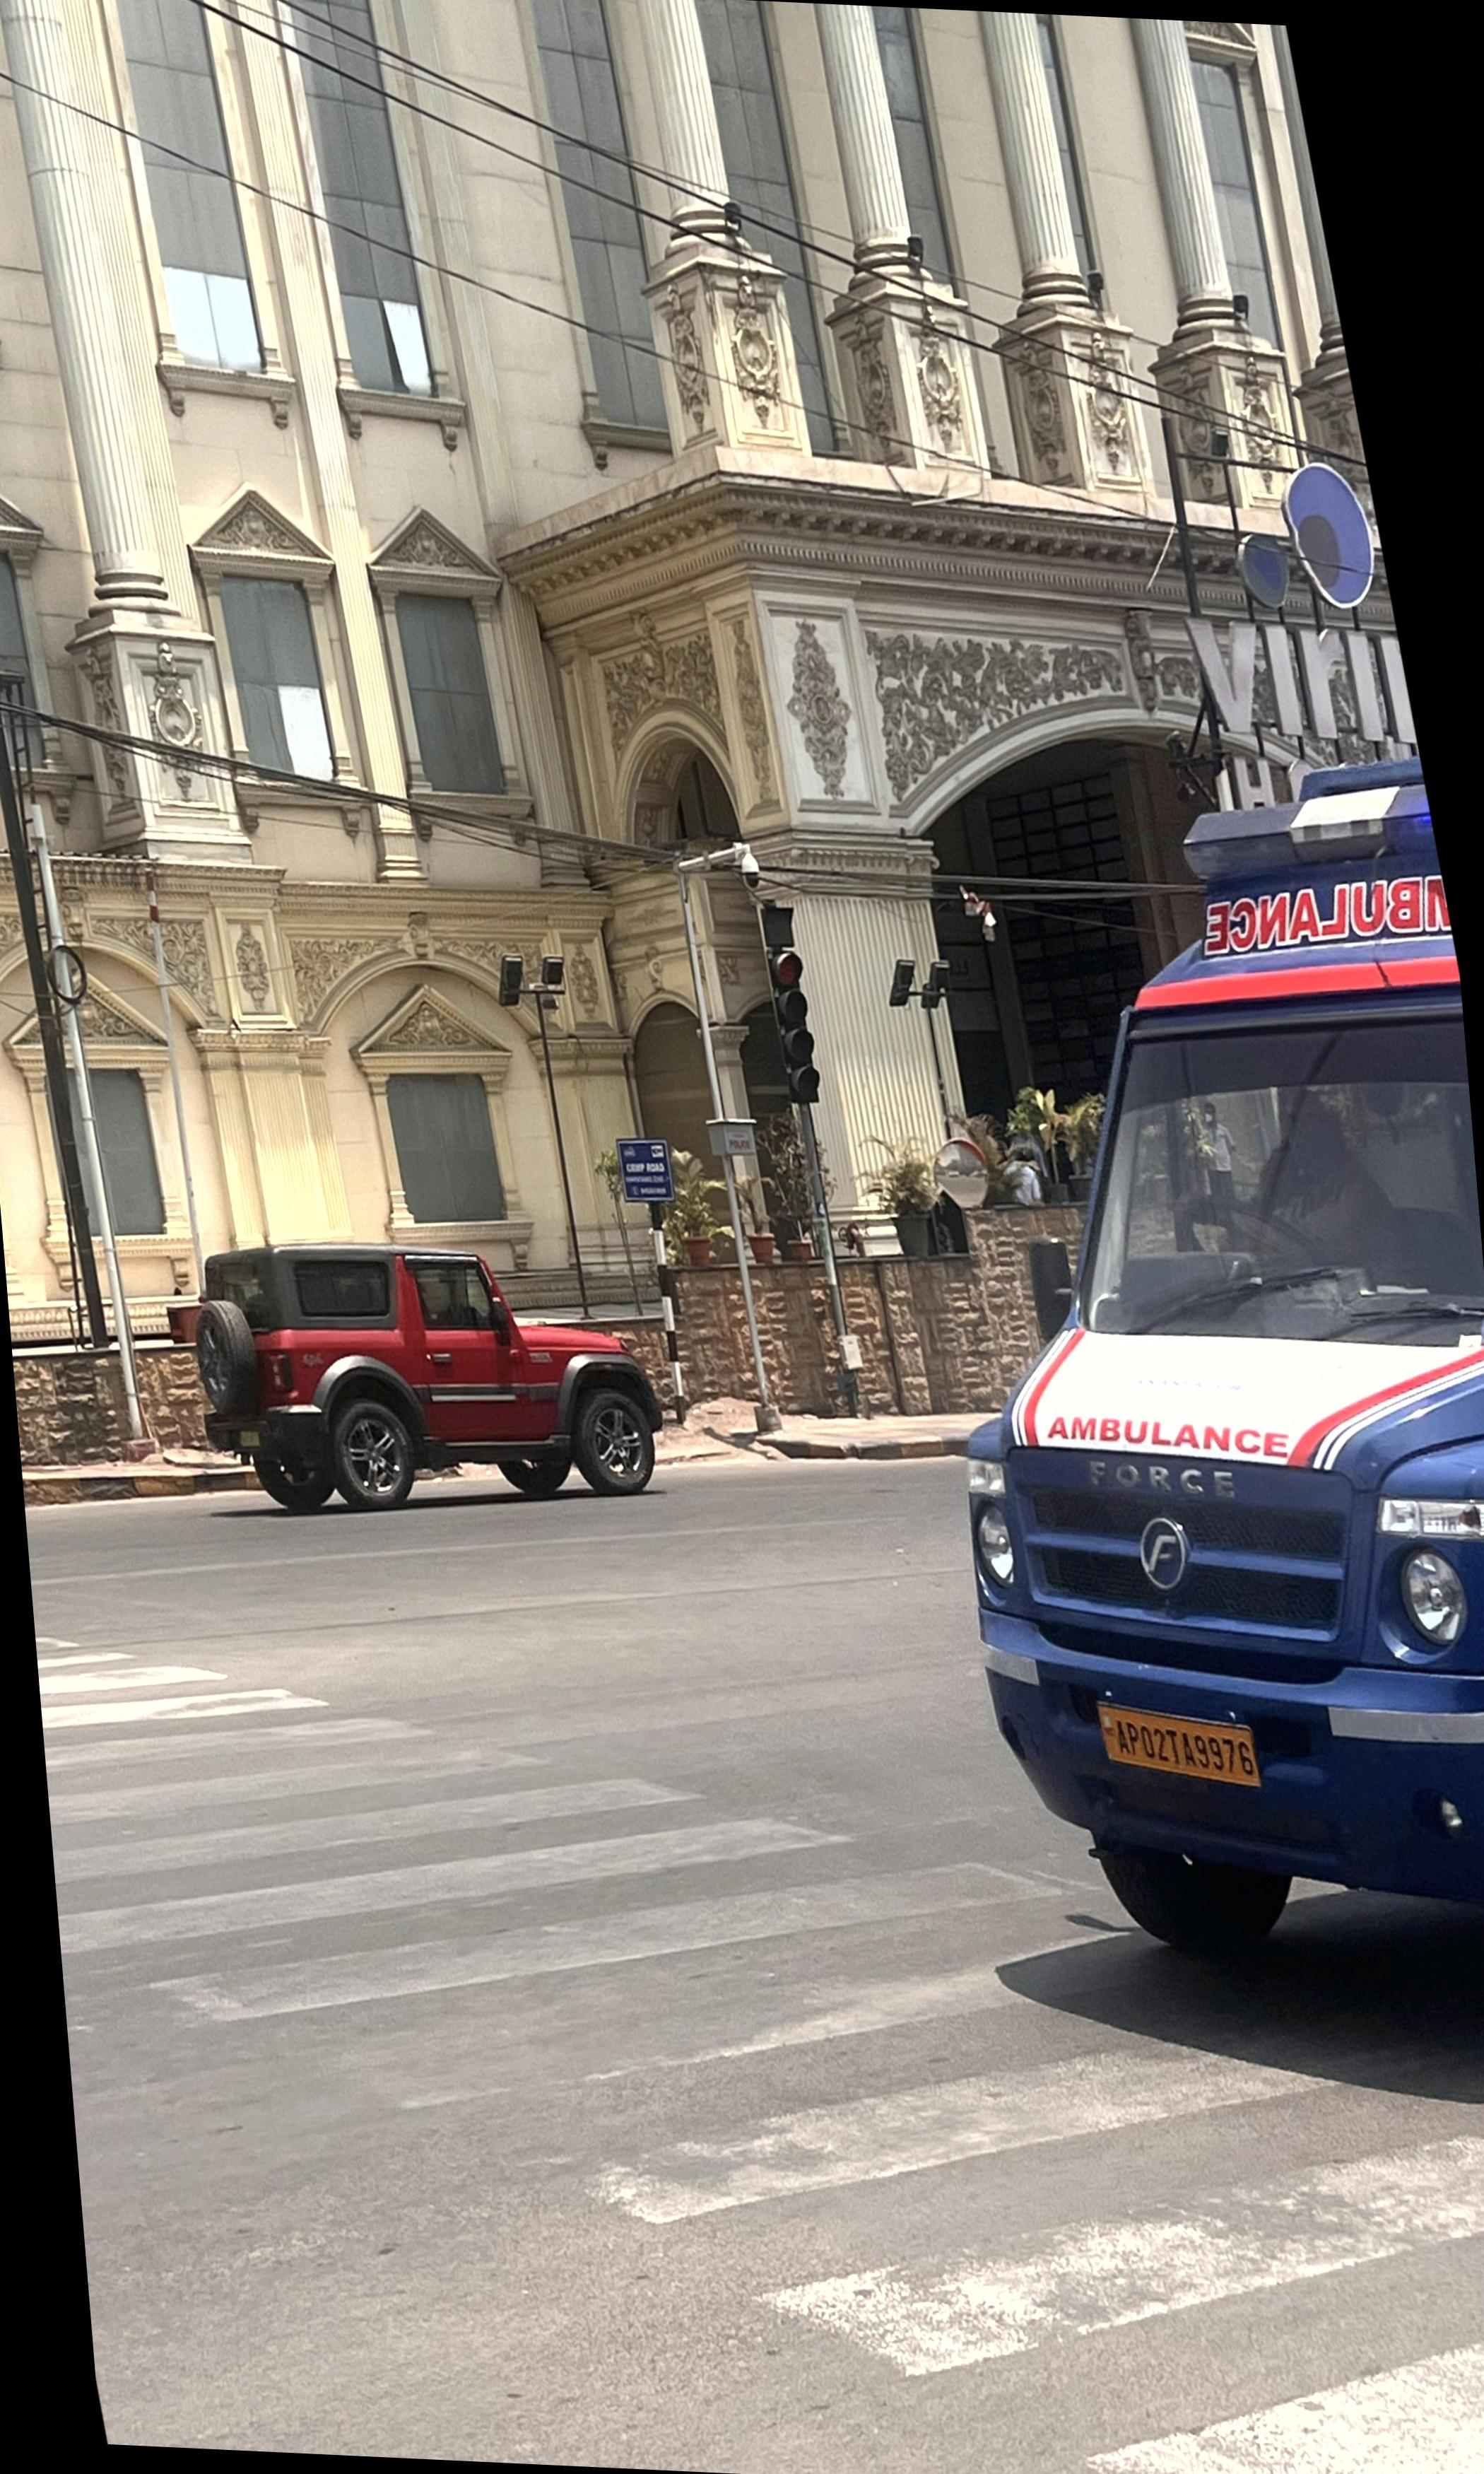ambulance: (977, 767, 1484, 1958)
